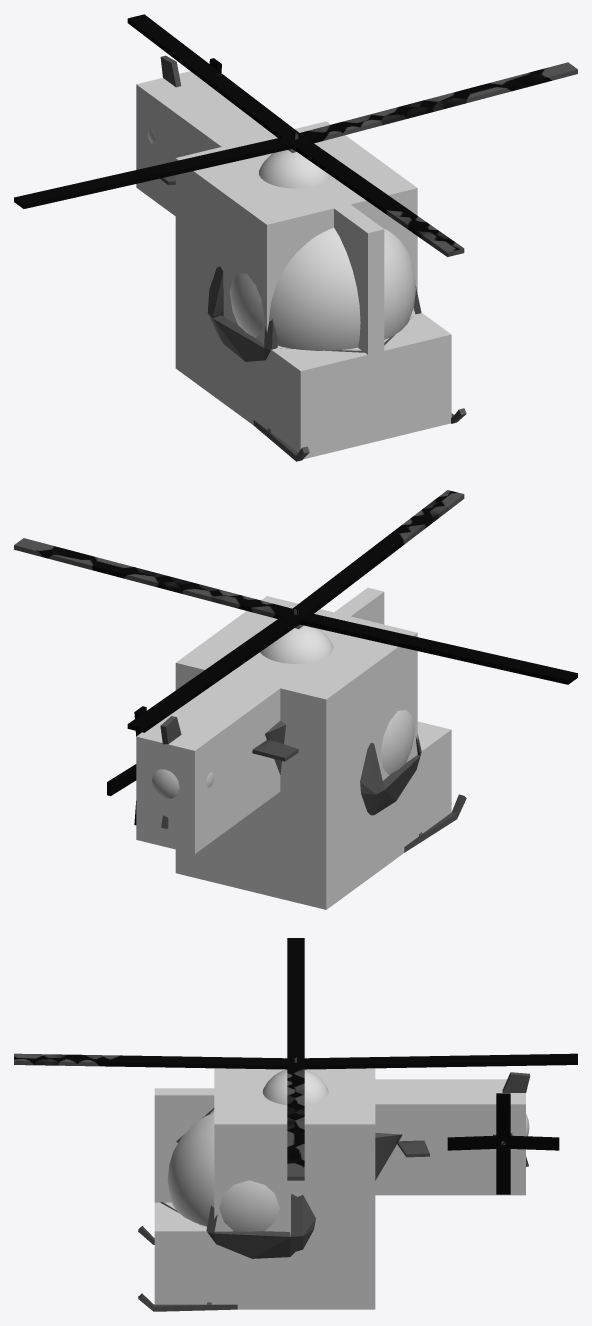
File: heli.glb
The picture shows the model from 3 angles, top to bottom: view 1: azimuth 30°, elevation 25°; view 2: azimuth 150°, elevation 25°; view 3: azimuth 270°, elevation 25°; orthographic projection. The views are drawn at different scales.
Visible parts, largest first — view 1: Cube.006, Cube.004, Sphere.007, Cube.008, Cube.007, Cube.005, Cube.001, Cube, Sphere.005, door_R; view 2: Cube.006, Cube.007, Cube.004, Cube, Cube.008, Sphere.005, Sphere.007, Cube.001, door_R, Sphere.004, Cube.002; view 3: Cube.006, Cube.007, Cube.004, Sphere.007, Cube.005, Cube, Cube.001, Cube.002, door_L, Sphere.005.
Part boxes in pixels (bbox=[...]): Cube.006: bbox=[175, 121, 417, 428]; Cube.004: bbox=[14, 14, 577, 256]; Sphere.007: bbox=[229, 227, 415, 350]; Cube.008: bbox=[267, 346, 367, 459]; Cube.007: bbox=[136, 71, 272, 215]; Cube.005: bbox=[384, 310, 451, 439]; Cube.001: bbox=[334, 204, 384, 443]; Cube: bbox=[160, 55, 466, 461]; Sphere.005: bbox=[259, 150, 331, 188]; door_R: bbox=[213, 315, 265, 361]; Cube.006: bbox=[175, 596, 417, 909]; Cube.007: bbox=[136, 675, 280, 853]; Cube.004: bbox=[14, 490, 577, 732]; Cube: bbox=[160, 609, 466, 852]; Cube.008: bbox=[417, 721, 451, 836]; Sphere.005: bbox=[260, 625, 333, 663]; Sphere.007: bbox=[380, 710, 414, 774]; Cube.001: bbox=[334, 587, 384, 624]; door_R: bbox=[374, 755, 420, 814]; Sphere.004: bbox=[151, 769, 214, 798]; Cube.002: bbox=[107, 706, 146, 825]; Cube.006: bbox=[214, 1068, 375, 1309]; Cube.007: bbox=[375, 1079, 525, 1195]; Cube.004: bbox=[14, 938, 577, 1180]; Sphere.007: bbox=[167, 1112, 279, 1231]; Cube.005: bbox=[154, 1202, 214, 1304]; Cube: bbox=[138, 1057, 530, 1311]; Cube.001: bbox=[154, 1088, 214, 1202]; Cube.002: bbox=[447, 1093, 559, 1194]; door_L: bbox=[214, 1231, 290, 1258]; Sphere.005: bbox=[262, 1069, 328, 1104].
Bounding box in the file's own units: 3.92 × 1.69 × 3.92.
3 materials, 1 textured.
